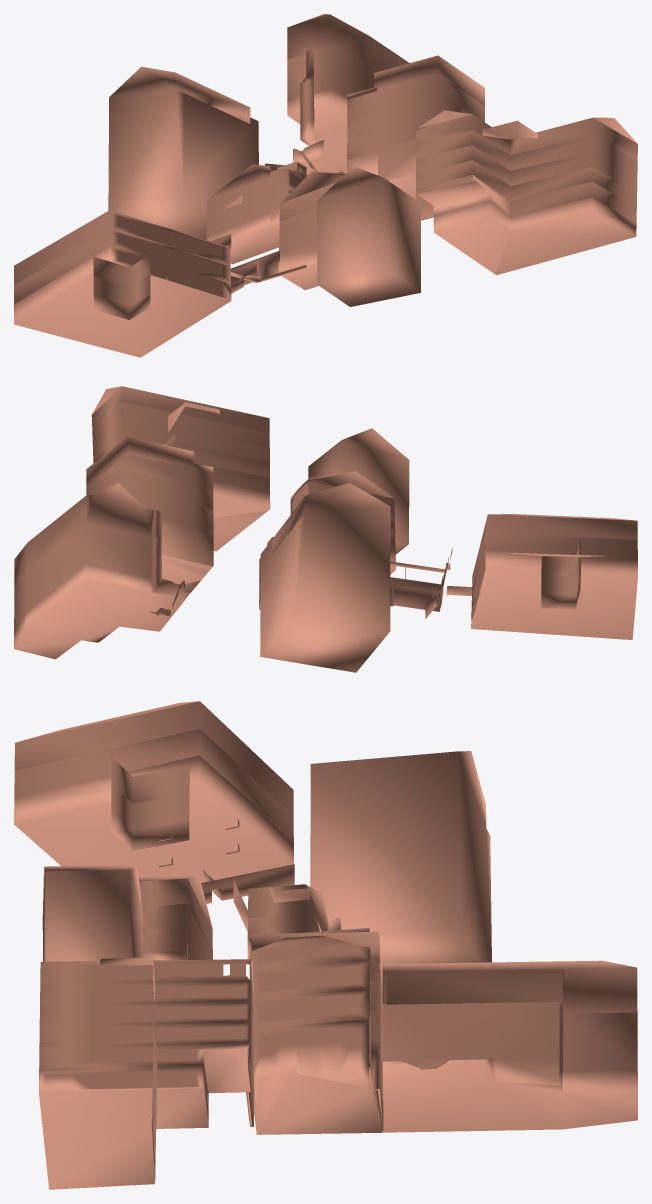
3 views of the same model, one above another, from view 1: azimuth 30°, elevation 25°; view 2: azimuth 150°, elevation 25°; view 3: azimuth 270°, elevation 25° (orthographic). The views are drawn at different scales.
Visible parts, largest first — view 1: ID_9357_0, ID_b107b063-eee4-4b6a-b15d-3d0ef7da3a1a, ID_78668_0, ID_fc614bb9-02db-43a0-b7c5-1d7c5937314a, ID_8c7eba3a-3574-422c-acbc-50cfd21f9915, ID_c64e3336-75fe-491e-91d6-886d669dba2a, ID_ea72e4c8-f94d-4af4-a981-2783b0420592, ID_3c86f8aa-c1cb-4b33-ac54-ae2453719782, ID_9c56f425-e1ef-4cb0-a52f-c8c0b7072136, ID_94234e0c-1f77-4bd7-a0f2-8fb418e0e01d, ID_bcb2f89e-4a92-467a-8088-7c44da482100, ID_399b0cef-b41c-438f-9491-b4e6e6a8d594 (+17 smaller); view 2: ID_9357_0, ID_8c7eba3a-3574-422c-acbc-50cfd21f9915, ID_b107b063-eee4-4b6a-b15d-3d0ef7da3a1a, ID_9c56f425-e1ef-4cb0-a52f-c8c0b7072136, ID_78668_0, ID_c64e3336-75fe-491e-91d6-886d669dba2a, ID_ea72e4c8-f94d-4af4-a981-2783b0420592, ID_813f136b-a4b9-4ac2-960d-2599460a1ad4, ID_bcb2f89e-4a92-467a-8088-7c44da482100, ID_94234e0c-1f77-4bd7-a0f2-8fb418e0e01d, ID_7eabbc0f-4f76-4066-9e69-52e8ea06e876, ID_fc614bb9-02db-43a0-b7c5-1d7c5937314a (+11 smaller); view 3: ID_9357_0, ID_8c7eba3a-3574-422c-acbc-50cfd21f9915, ID_b107b063-eee4-4b6a-b15d-3d0ef7da3a1a, ID_fc614bb9-02db-43a0-b7c5-1d7c5937314a, ID_813f136b-a4b9-4ac2-960d-2599460a1ad4, ID_9c56f425-e1ef-4cb0-a52f-c8c0b7072136, ID_c64e3336-75fe-491e-91d6-886d669dba2a, ID_ea72e4c8-f94d-4af4-a981-2783b0420592, ID_78668_0, ID_3c86f8aa-c1cb-4b33-ac54-ae2453719782, ID_94234e0c-1f77-4bd7-a0f2-8fb418e0e01d, ID_399b0cef-b41c-438f-9491-b4e6e6a8d594 (+13 smaller).
Part boxes in pixels (x1,y1,x2,y2): ID_9357_0: (108,66,258,239); ID_b107b063-eee4-4b6a-b15d-3d0ef7da3a1a: (14,245,231,357); ID_78668_0: (317,166,420,306); ID_fc614bb9-02db-43a0-b7c5-1d7c5937314a: (420,197,636,275); ID_8c7eba3a-3574-422c-acbc-50cfd21f9915: (287,49,415,180); ID_c64e3336-75fe-491e-91d6-886d669dba2a: (14,210,230,286); ID_ea72e4c8-f94d-4af4-a981-2783b0420592: (14,228,230,305); ID_3c86f8aa-c1cb-4b33-ac54-ae2453719782: (416,174,636,223); ID_9c56f425-e1ef-4cb0-a52f-c8c0b7072136: (287,14,409,129); ID_94234e0c-1f77-4bd7-a0f2-8fb418e0e01d: (416,130,637,175); ID_bcb2f89e-4a92-467a-8088-7c44da482100: (416,114,637,159); ID_399b0cef-b41c-438f-9491-b4e6e6a8d594: (416,160,637,207); ID_9357_0: (260,483,390,672); ID_8c7eba3a-3574-422c-acbc-50cfd21f9915: (14,524,185,659); ID_b107b063-eee4-4b6a-b15d-3d0ef7da3a1a: (471,550,637,639); ID_9c56f425-e1ef-4cb0-a52f-c8c0b7072136: (14,483,161,592); ID_78668_0: (308,428,409,554); ID_c64e3336-75fe-491e-91d6-886d669dba2a: (472,514,637,592); ID_ea72e4c8-f94d-4af4-a981-2783b0420592: (471,532,637,608); ID_813f136b-a4b9-4ac2-960d-2599460a1ad4: (161,520,213,598); ID_bcb2f89e-4a92-467a-8088-7c44da482100: (91,386,269,446); ID_94234e0c-1f77-4bd7-a0f2-8fb418e0e01d: (92,402,269,448); ID_7eabbc0f-4f76-4066-9e69-52e8ea06e876: (93,417,269,462); ID_fc614bb9-02db-43a0-b7c5-1d7c5937314a: (213,482,270,551); ID_9357_0: (310,751,491,963); ID_8c7eba3a-3574-422c-acbc-50cfd21f9915: (369,1002,637,1132); ID_b107b063-eee4-4b6a-b15d-3d0ef7da3a1a: (14,755,293,882); ID_fc614bb9-02db-43a0-b7c5-1d7c5937314a: (39,1063,253,1189); ID_813f136b-a4b9-4ac2-960d-2599460a1ad4: (254,1019,383,1134); ID_9c56f425-e1ef-4cb0-a52f-c8c0b7072136: (370,960,637,1013); ID_c64e3336-75fe-491e-91d6-886d669dba2a: (14,701,293,814); ID_ea72e4c8-f94d-4af4-a981-2783b0420592: (14,728,293,839); ID_78668_0: (42,865,142,961); ID_3c86f8aa-c1cb-4b33-ac54-ae2453719782: (39,1043,253,1164); ID_94234e0c-1f77-4bd7-a0f2-8fb418e0e01d: (40,980,254,1101); ID_399b0cef-b41c-438f-9491-b4e6e6a8d594: (39,1022,254,1143).
Size of the model in its own units: 119 by 29.07 by 80.29.
